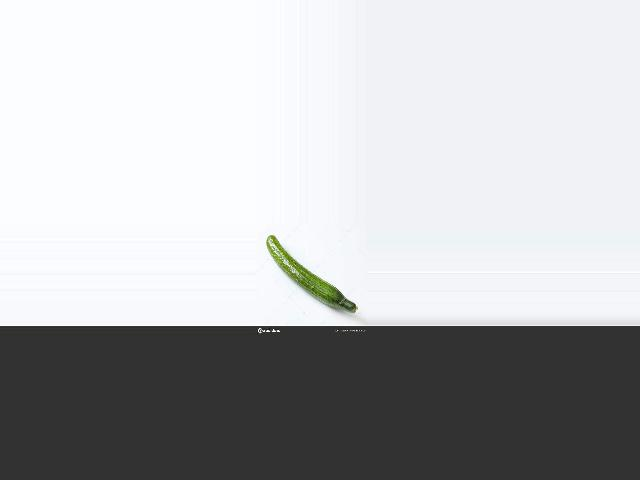cucumber: (267, 235, 358, 312)
